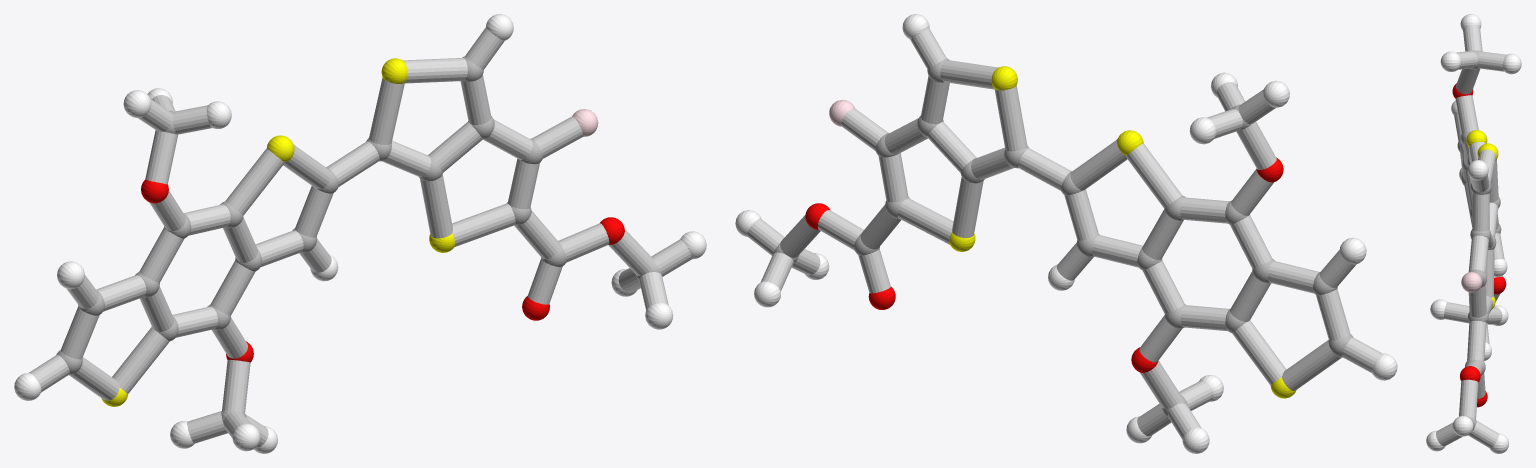
Rendered from Dimethoxy_Benzodithiophene_Phi_10_Theta_170_Methylcarbonyl_3_Fluoro_Thienothiophene.glb.
The picture shows the model from 3 angles, left to right: view 1: azimuth 30°, elevation 25°; view 2: azimuth 150°, elevation 25°; view 3: azimuth 270°, elevation 25°; orthographic projection. The views are drawn at different scales.
Visible parts, largest first — view 1: grp15205, grp8689, grp1, grp7241, grp13395; view 2: grp15205, grp8689, grp1, grp7241, grp13395; view 3: grp15205, grp8689, grp1, grp13395, grp7241, grp14843.
Boxes of the visible parts, box(x1,y1,x2,y2) form: grp15205: box(29, 28, 692, 447); grp8689: box(14, 14, 706, 453); grp1: box(56, 56, 660, 422); grp7241: box(101, 58, 454, 406); grp13395: box(141, 179, 624, 362); grp15205: box(747, 28, 1382, 439); grp8689: box(735, 14, 1397, 453); grp1: box(773, 58, 1353, 417); grp7241: box(949, 66, 1296, 398); grp13395: box(805, 157, 1283, 372); grp15205: box(1436, 26, 1505, 448); grp8689: box(1426, 14, 1521, 453); grp1: box(1457, 50, 1501, 425); grp13395: box(1452, 83, 1506, 407); grp7241: box(1466, 130, 1498, 309); grp14843: box(1461, 272, 1482, 292).
Bounding box in the file's own units: 16.92 × 9.43 × 2.75.
